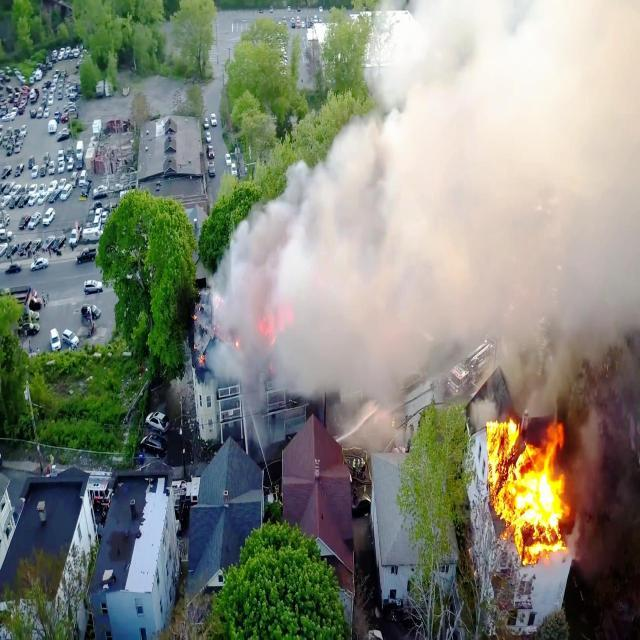Fire: (486, 420, 574, 554)
Smoke: (309, 214, 436, 366)
